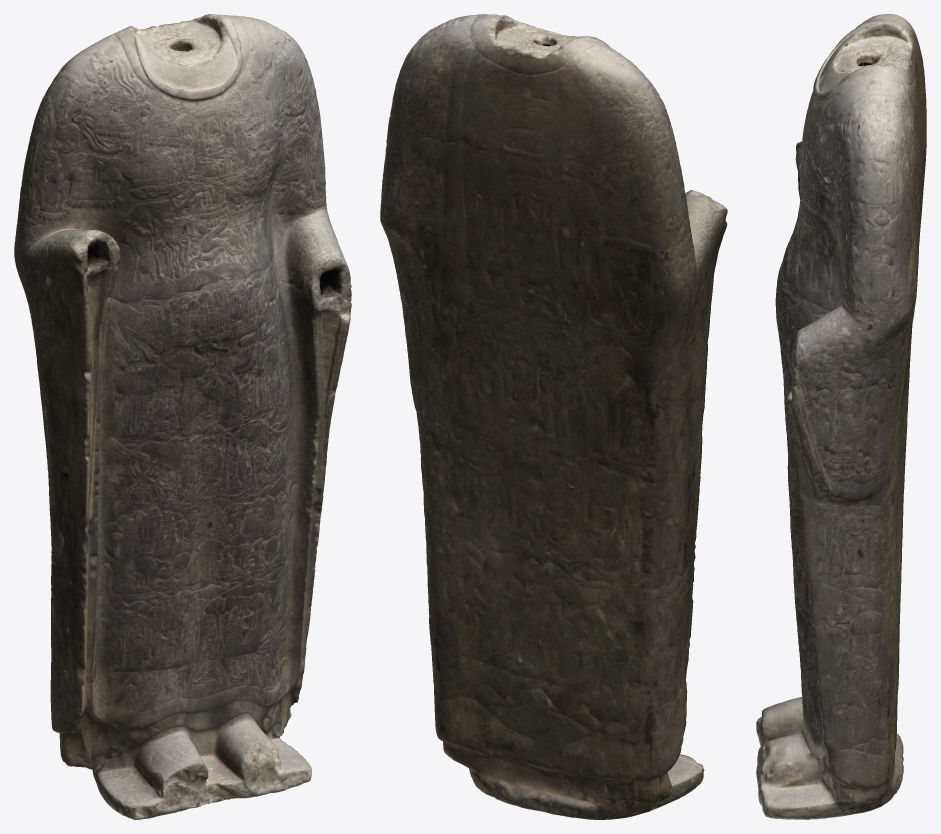
File: hero_era_history_ancient_antiquity_7fddcf.glb
The picture shows the model from 3 angles, left to right: view 1: azimuth 30°, elevation 25°; view 2: azimuth 150°, elevation 25°; view 3: azimuth 270°, elevation 25°; orthographic projection. The views are drawn at different scales.
Bounding box in the file's own units: 635 × 1515 × 317.
1 material, 1 textured.
